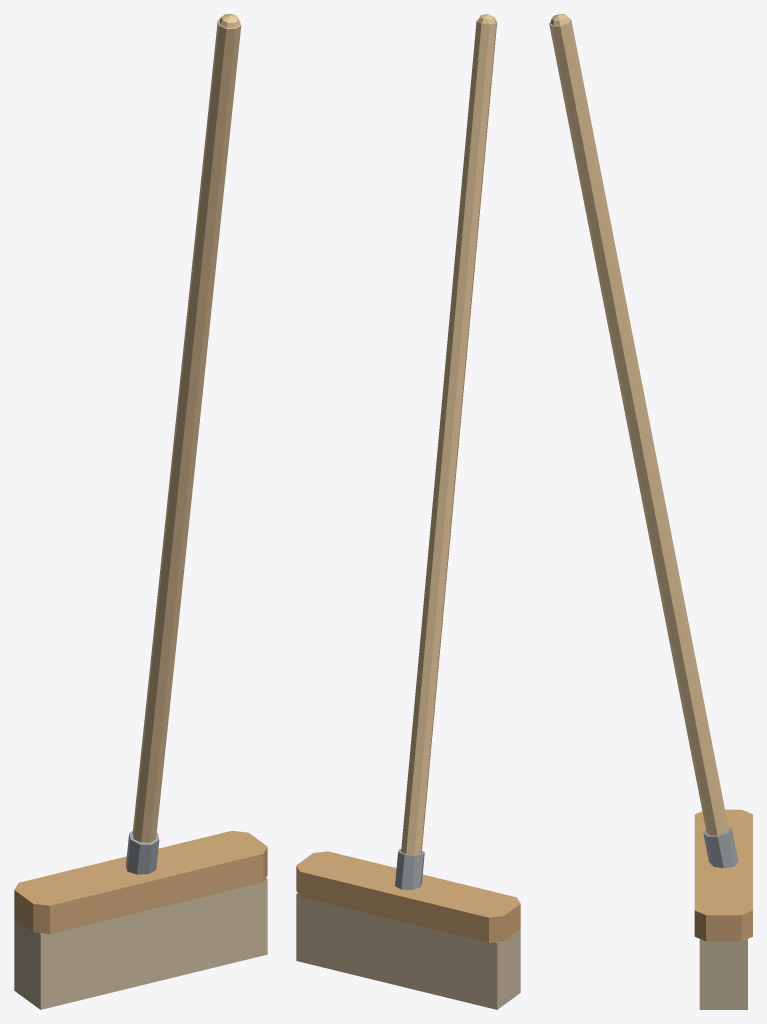
The model's file is SM_LPI_Util_Broom_01.fbx.
3 renders of one model, left to right at view 1: azimuth 30°, elevation 25°; view 2: azimuth 150°, elevation 25°; view 3: azimuth 270°, elevation 25°, orthographic. The views are drawn at different scales.
Parts seen in each view (by area): view 1: SM_LPI_Util_Broom_01; view 2: SM_LPI_Util_Broom_01; view 3: SM_LPI_Util_Broom_01.
Boxes of the visible parts, bbox=[...] form: SM_LPI_Util_Broom_01: bbox=[14, 14, 267, 1009]; SM_LPI_Util_Broom_01: bbox=[296, 14, 520, 1009]; SM_LPI_Util_Broom_01: bbox=[549, 14, 752, 1009].
Bounding box in the file's own units: 0.31 × 1.29 × 0.2526.
